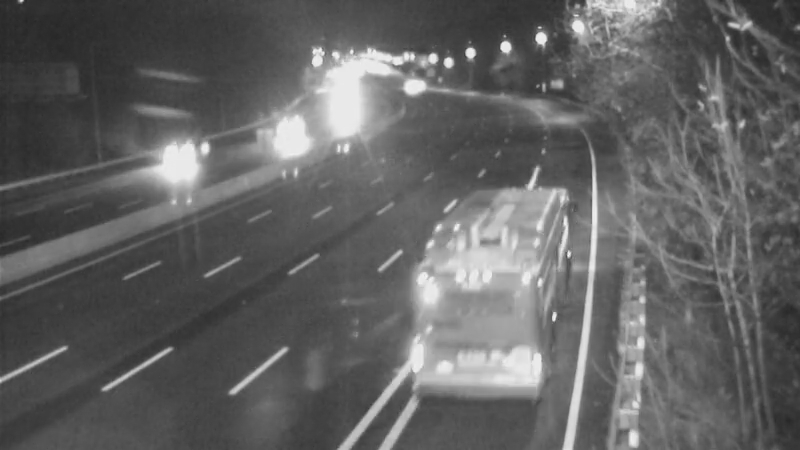vehicle: (432, 254, 512, 334), (131, 121, 211, 201), (271, 110, 321, 160)
